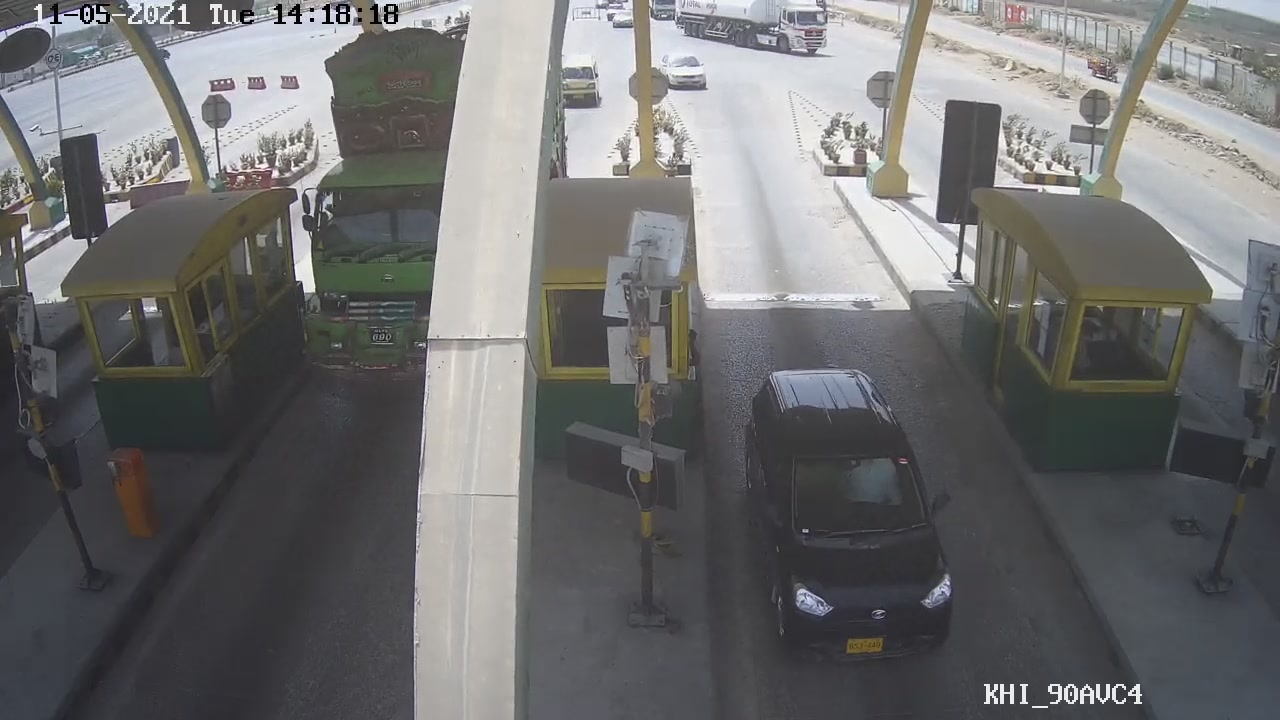F1: (739, 360, 960, 663)
